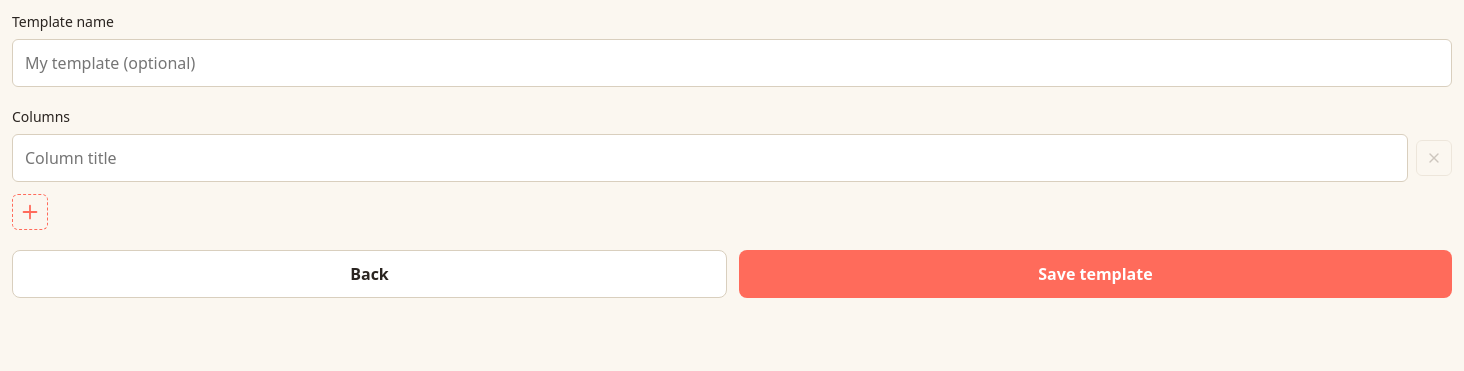
Test case: ColumnEditor › Remove drops the specific row
Click the button named "add column". click: (30, 212)
box: [12,194,48,230]
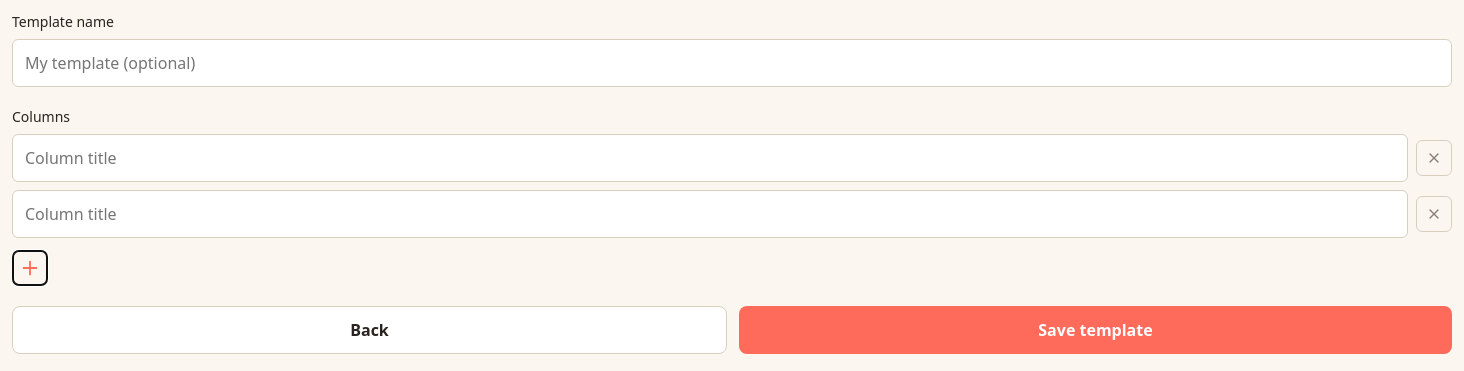
Type "First" into the field named "column 1 title". click: (710, 158)
box: [12,134,1408,182]
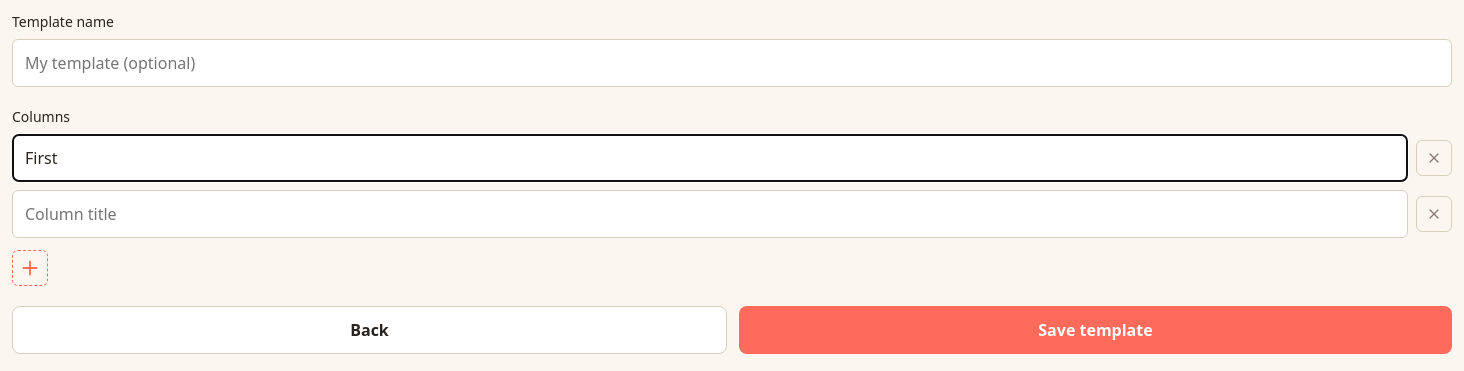
Type "Second" into the field named "column 2 title". click: (710, 214)
box: [12,190,1408,238]
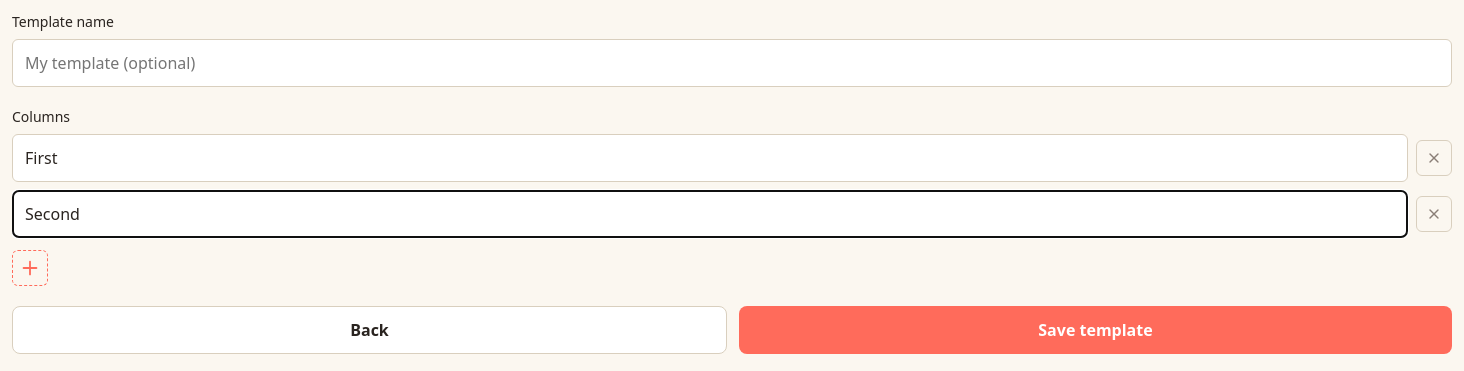
Click the button named "remove column 1". click: (1434, 158)
box: [1416,140,1452,176]
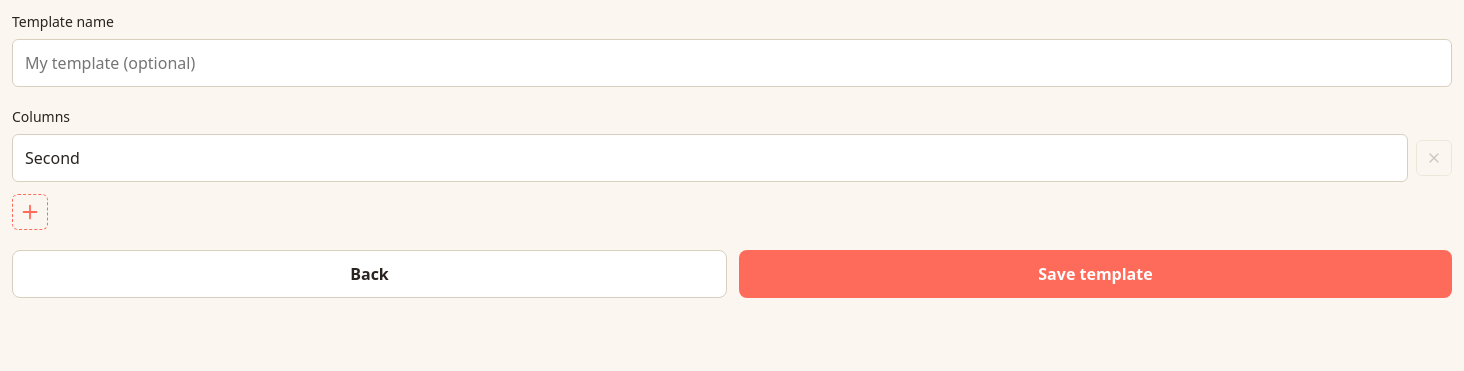
Now the field named "column 1 title" holds "Second", box [12,134,1408,182]
